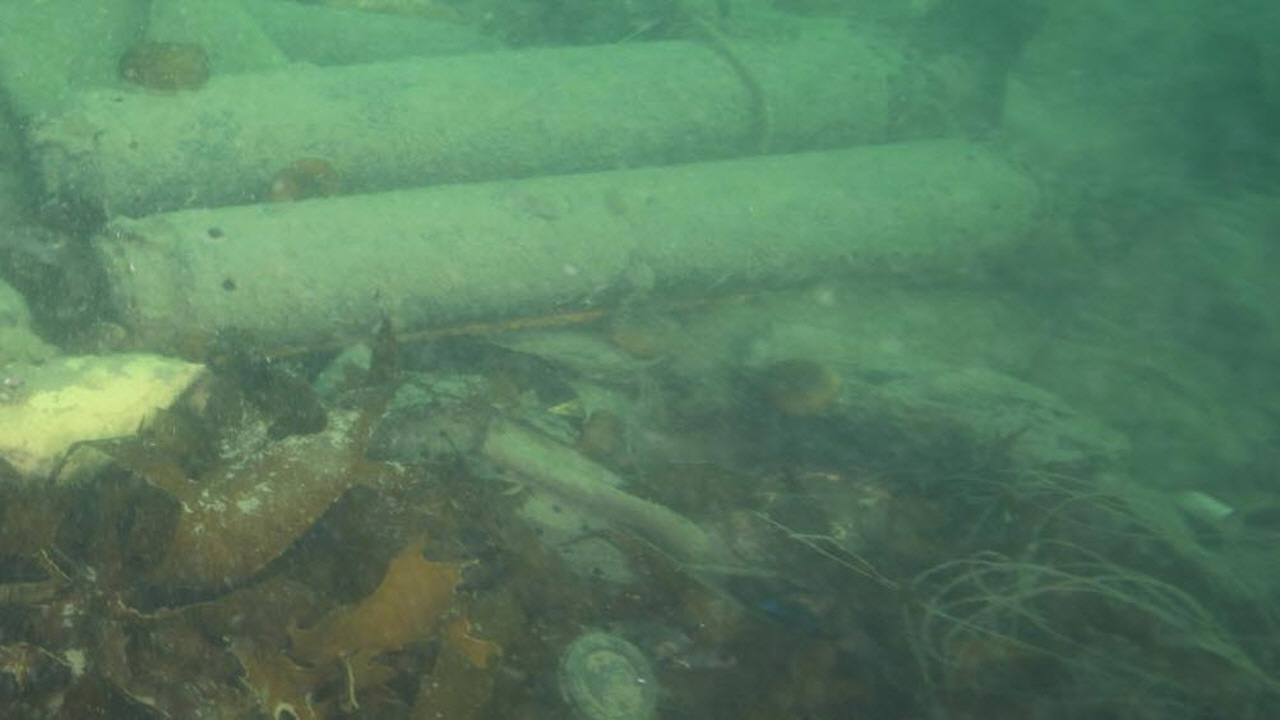eel fish trap: (92, 134, 1042, 344), (27, 35, 886, 220)
rope: (676, 4, 780, 159)
